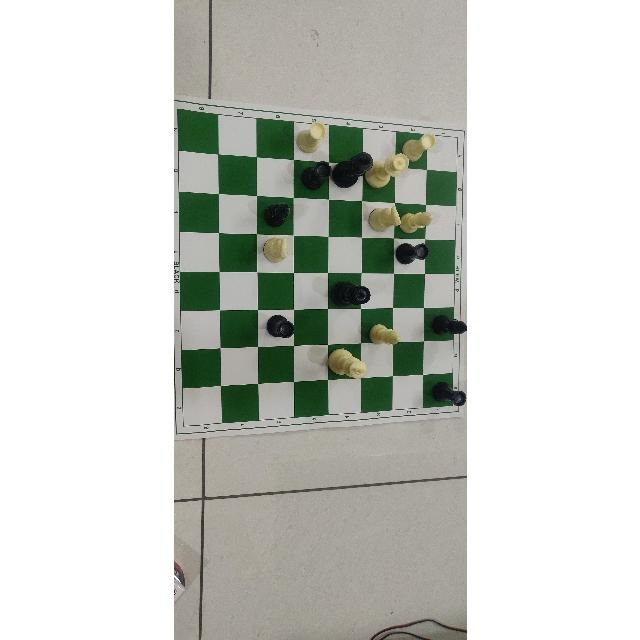black-bishop: (426, 313, 465, 339), (263, 203, 291, 234)
black-king: (331, 149, 373, 201)
black-queen: (329, 280, 372, 308)
black-rook: (300, 160, 330, 196), (393, 240, 431, 268), (431, 380, 466, 407), (264, 314, 295, 343)
white-bishop: (400, 208, 434, 233), (368, 324, 402, 346)
white-king: (324, 347, 370, 382)
white-knight: (362, 204, 402, 232), (260, 236, 294, 267)
white-queen: (367, 151, 408, 193)
white-rook: (402, 133, 433, 164), (297, 122, 325, 153)
